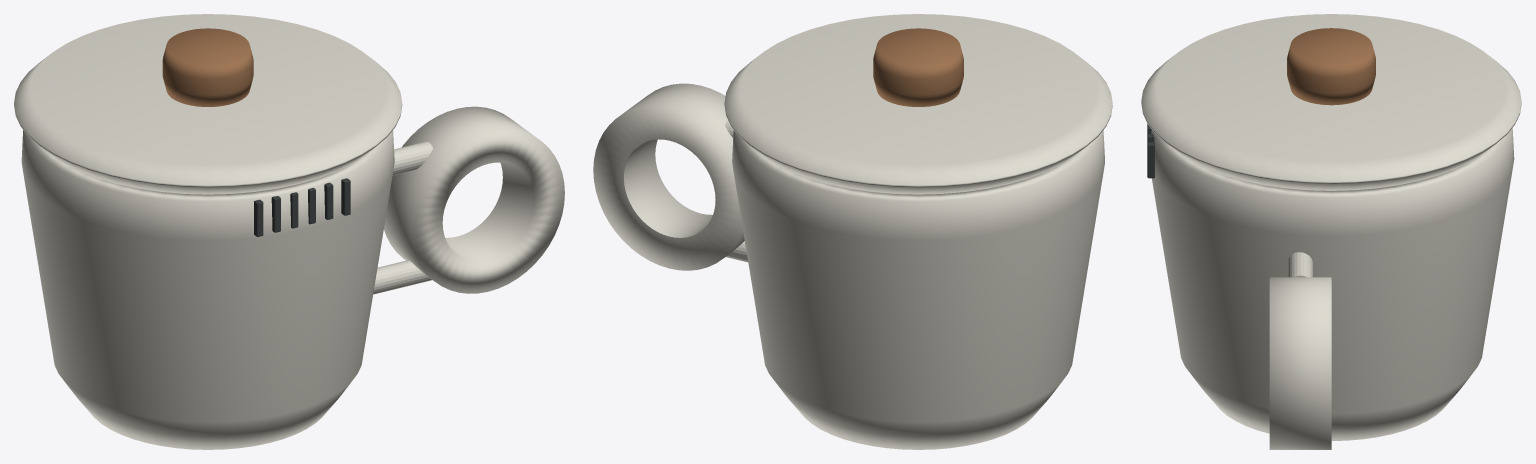
Rendered from tea-garden-and-processing-house-tea-garden-and-process-d327c962__30786.glb.
3 views of the same model, side by side, from view 1: azimuth 30°, elevation 25°; view 2: azimuth 150°, elevation 25°; view 3: azimuth 270°, elevation 25° (orthographic). The views are drawn at different scales.
Parts seen in each view (by area): view 1: tea-garden-and-processing-house-lidded-tasting-infuser; view 2: tea-garden-and-processing-house-lidded-tasting-infuser; view 3: tea-garden-and-processing-house-lidded-tasting-infuser.
Part boxes in pixels (x1,y1,x2,y2): tea-garden-and-processing-house-lidded-tasting-infuser: [14, 14, 564, 449]; tea-garden-and-processing-house-lidded-tasting-infuser: [593, 14, 1112, 449]; tea-garden-and-processing-house-lidded-tasting-infuser: [1141, 14, 1521, 449].
Bounding box in the file's own units: 0.226 × 0.154 × 0.154.
